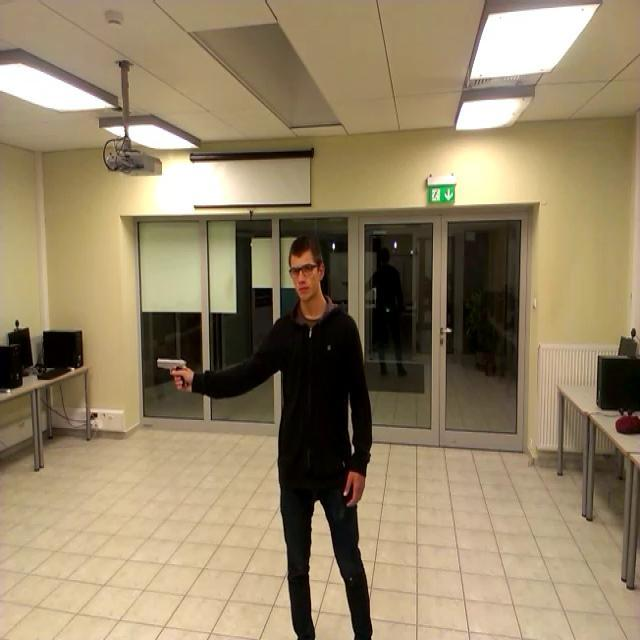Gun: (148, 345, 201, 402)
